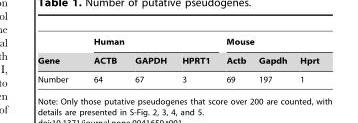table: (37, 37, 318, 83)
table column: (125, 37, 173, 83), (80, 37, 125, 83), (173, 37, 217, 83), (37, 37, 80, 83), (251, 37, 292, 83), (217, 37, 251, 83), (292, 37, 318, 83)
table column header: (37, 37, 318, 69)
table row: (37, 50, 318, 69), (37, 69, 318, 83), (37, 37, 318, 50)
table spanning cell: (80, 37, 217, 50), (37, 37, 80, 69), (217, 37, 318, 50)
